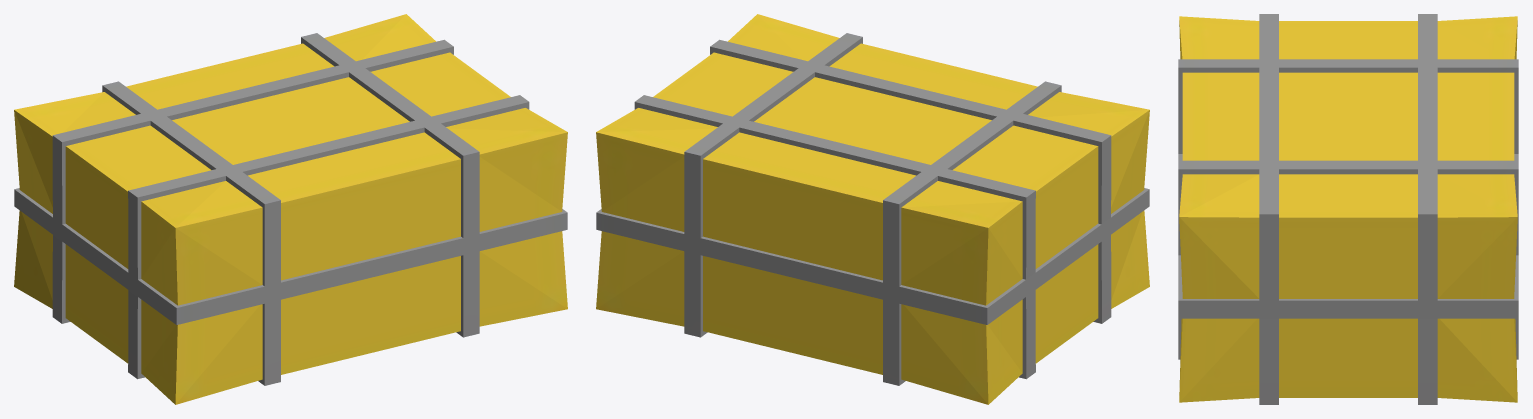
File: square_wheat_barn_big.glb
3 renders of one model, left to right at view 1: azimuth 30°, elevation 25°; view 2: azimuth 150°, elevation 25°; view 3: azimuth 270°, elevation 25°, orthographic. The views are drawn at different scales.
Visible parts, largest first — view 1: rock02_Mesh_007_Base_0.2107; view 2: rock02_Mesh_007_Base_0.2107; view 3: rock02_Mesh_007_Base_0.2107.
Boxes of the visible parts, x1=… form: rock02_Mesh_007_Base_0.2107: x1=14, y1=14, x2=567, y2=404; rock02_Mesh_007_Base_0.2107: x1=596, y1=14, x2=1149, y2=404; rock02_Mesh_007_Base_0.2107: x1=1178, y1=14, x2=1518, y2=404.
Bounding box in the file's own units: 1.64 × 0.7245 × 1.17.
Materials: 1 (1 with a texture image).
